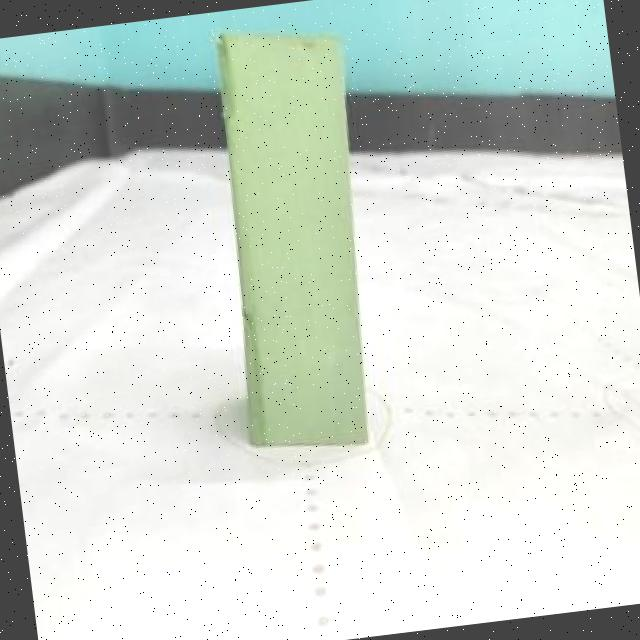greenbox: (196, 11, 396, 458)
